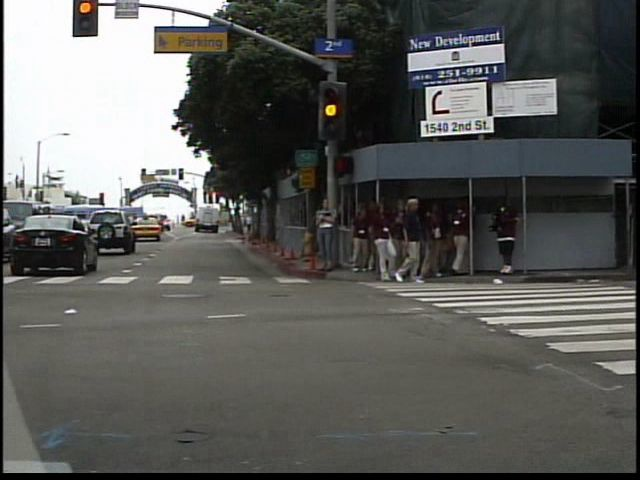person: (317, 189, 346, 276)
